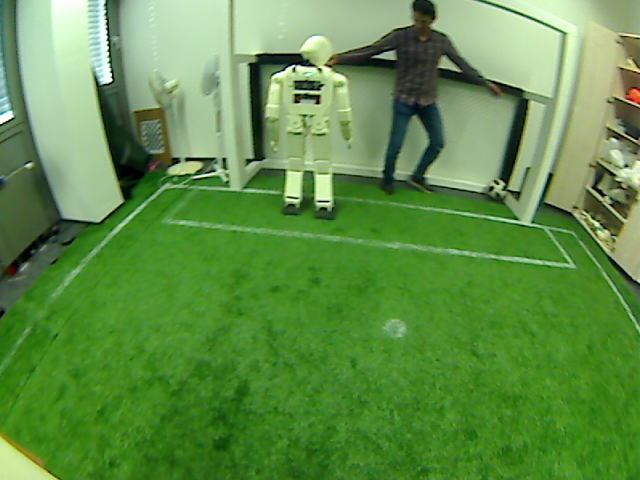ball: (486, 177, 513, 204)
goalpost: (515, 186, 534, 225), (226, 157, 243, 191)
robot: (276, 140, 342, 215)
